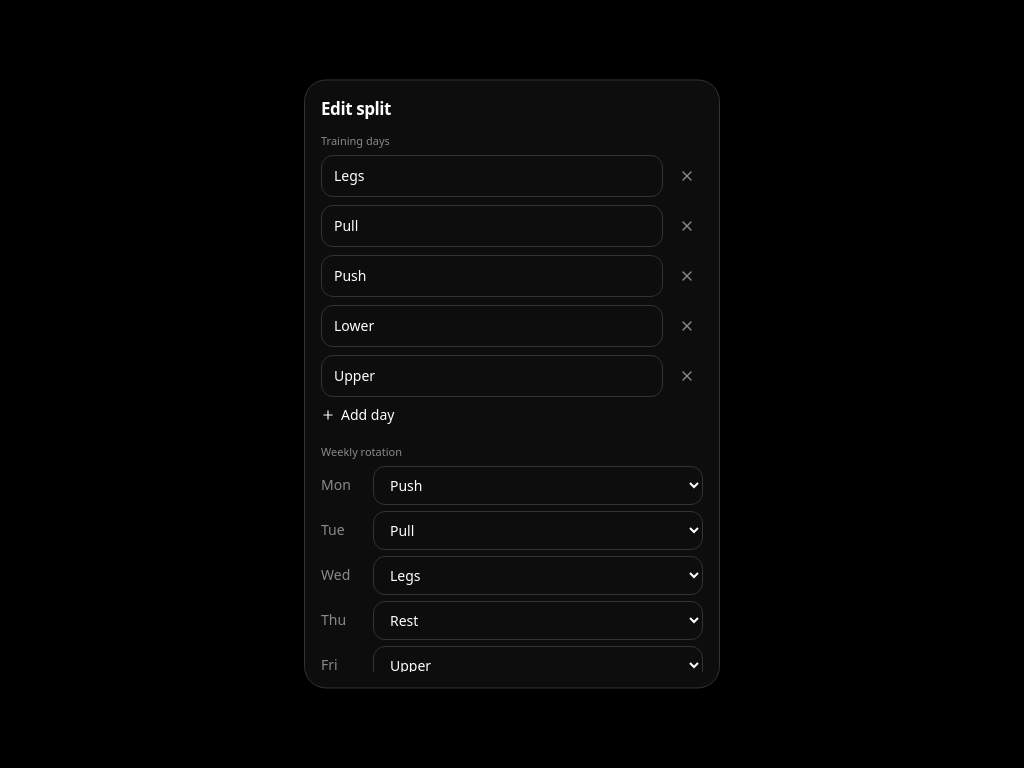
SplitEditorSheet › adds a day with the next free day_type
Expected: the field named "Name for day 1" is shown, [321,155,663,197]
Click the button "Add day" at [358, 415], box [321,405,394,425]
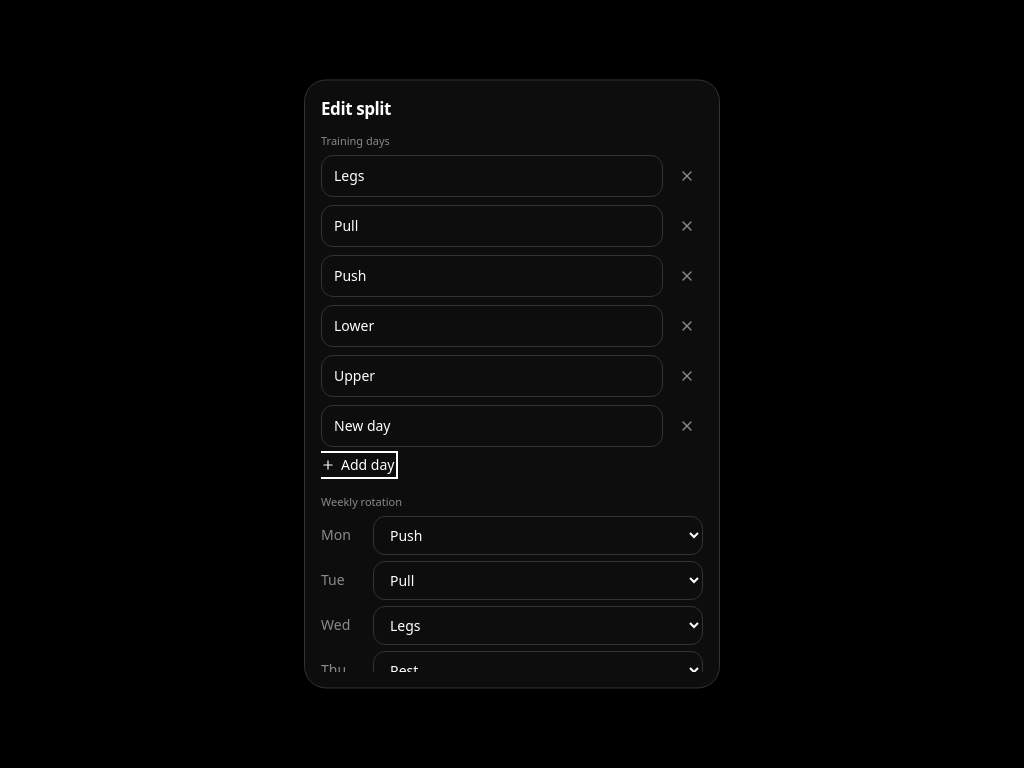
Expected: the field named "Name for day 6" is shown, [321,405,663,447]
